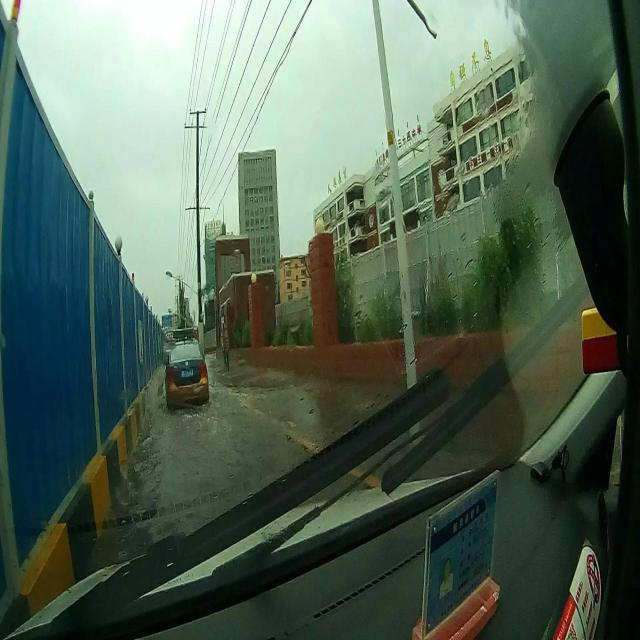car: (164, 328, 210, 409)
